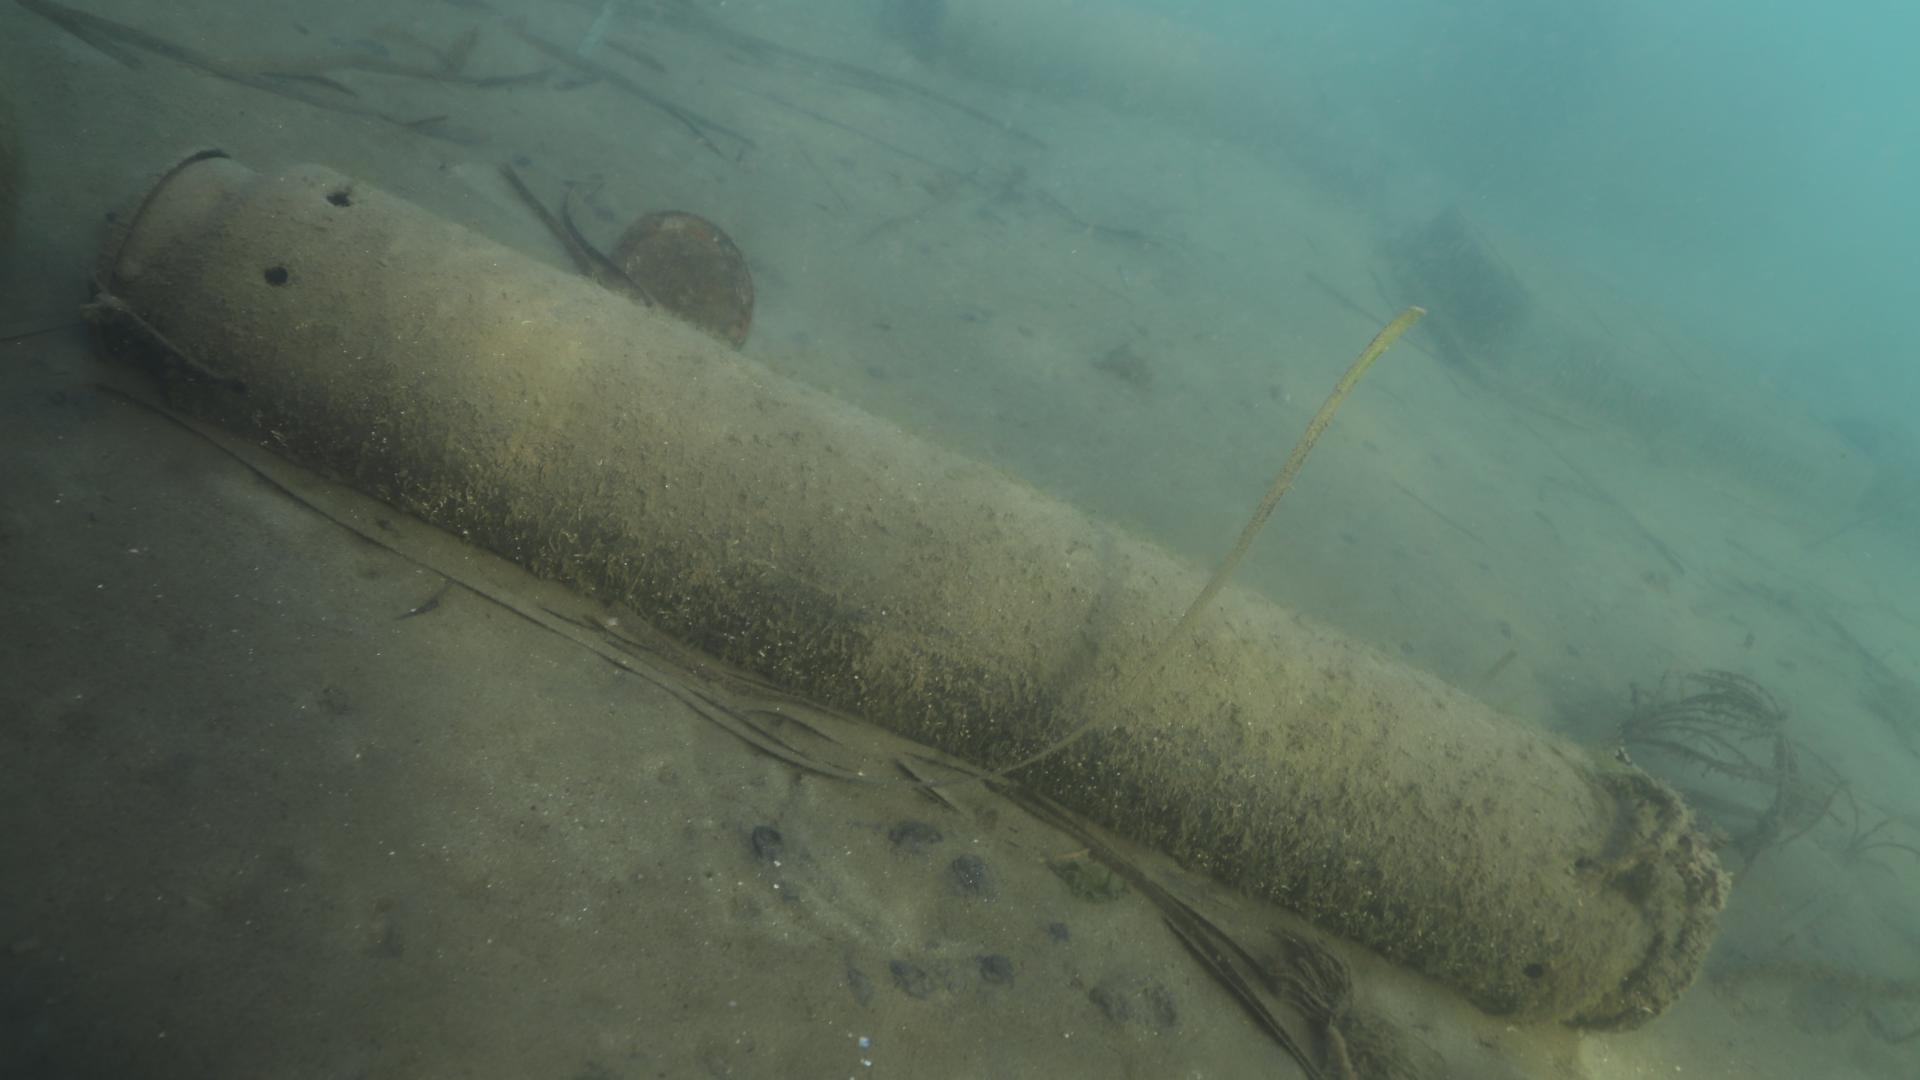eel fish trap: (80, 140, 1733, 1036)
